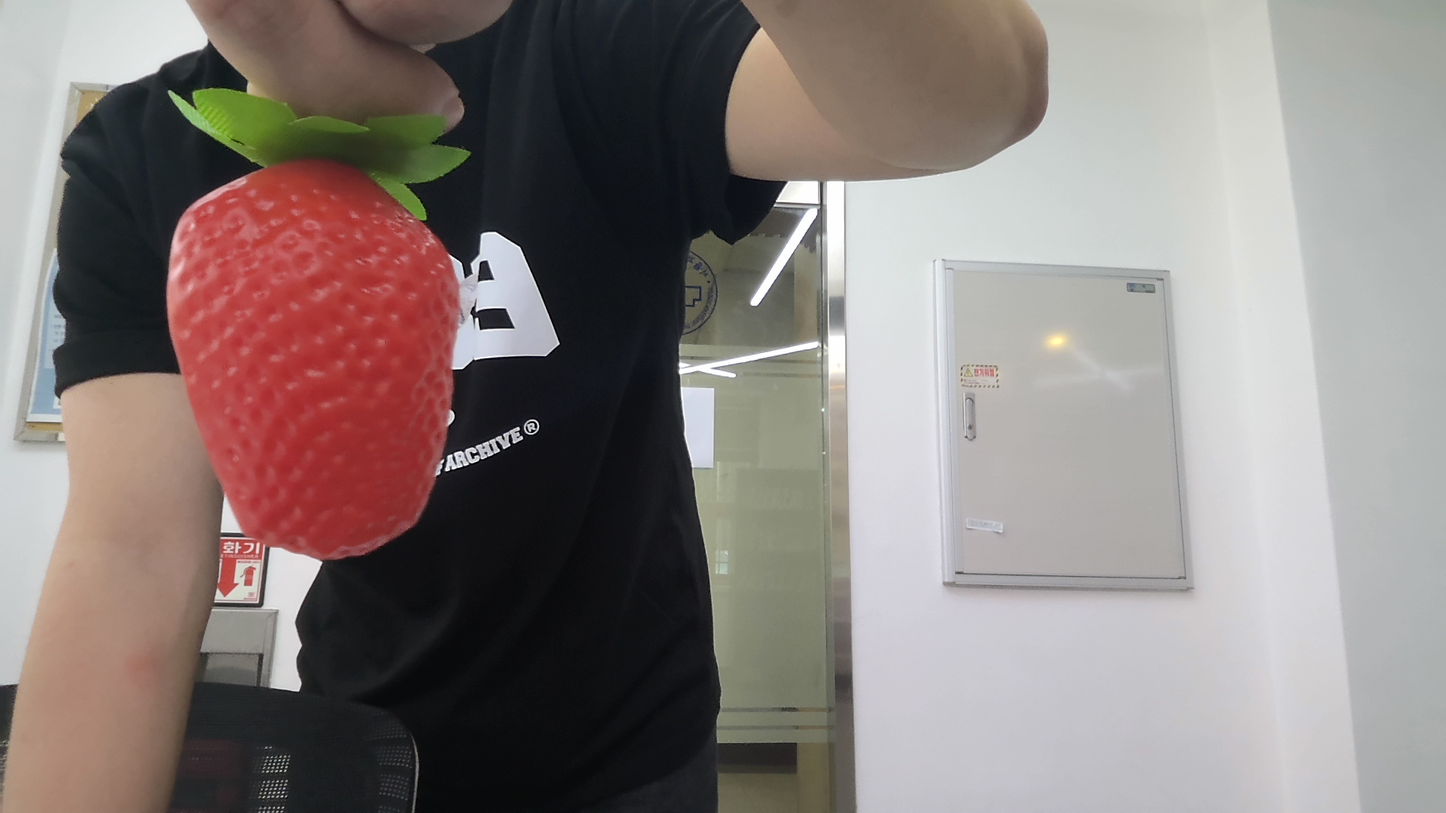strawberry: (139, 137, 500, 574)
